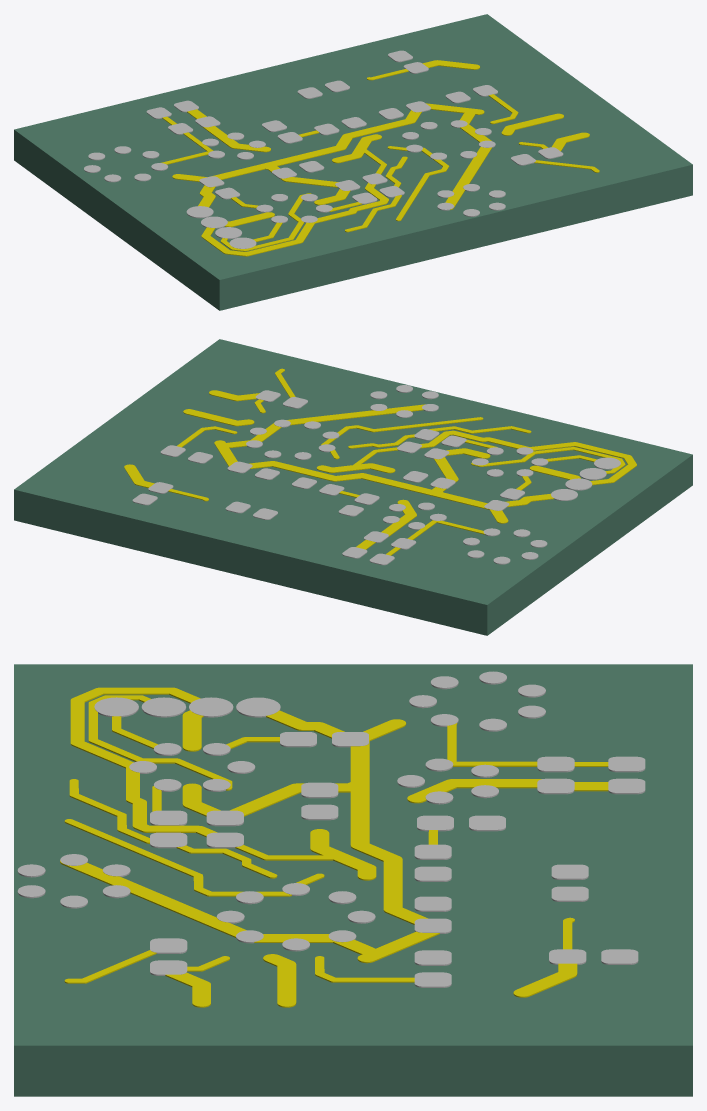
Rendered from pcb_3d_model.glb.
3 views of the same model, one above another, from view 1: azimuth 30°, elevation 25°; view 2: azimuth 150°, elevation 25°; view 3: azimuth 270°, elevation 25° (orthographic). The views are drawn at different scales.
Visible parts, largest first — view 1: =>[0:1:1:4], =>[0:1:1:2], =>[0:1:1:3]; view 2: =>[0:1:1:4], =>[0:1:1:2], =>[0:1:1:3]; view 3: =>[0:1:1:4], =>[0:1:1:2], =>[0:1:1:3].
Part boxes in pixels (<box>): =>[0:1:1:4]: <box>14,14,692,310</box>; =>[0:1:1:2]: <box>161,60,599,256</box>; =>[0:1:1:3]: <box>84,50,563,248</box>; =>[0:1:1:4]: <box>14,339,692,635</box>; =>[0:1:1:2]: <box>124,368,636,555</box>; =>[0:1:1:3]: <box>132,385,620,565</box>; =>[0:1:1:4]: <box>14,664,692,1096</box>; =>[0:1:1:2]: <box>60,687,608,1007</box>; =>[0:1:1:3]: <box>17,671,645,987</box>.
Bounding box in the file's own units: 0.0243 × 0.00155 × 0.0183.
